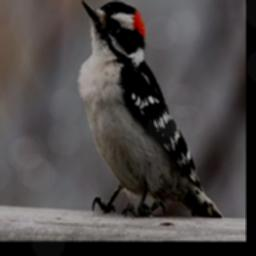Woodpecker: (76, 0, 221, 221)
